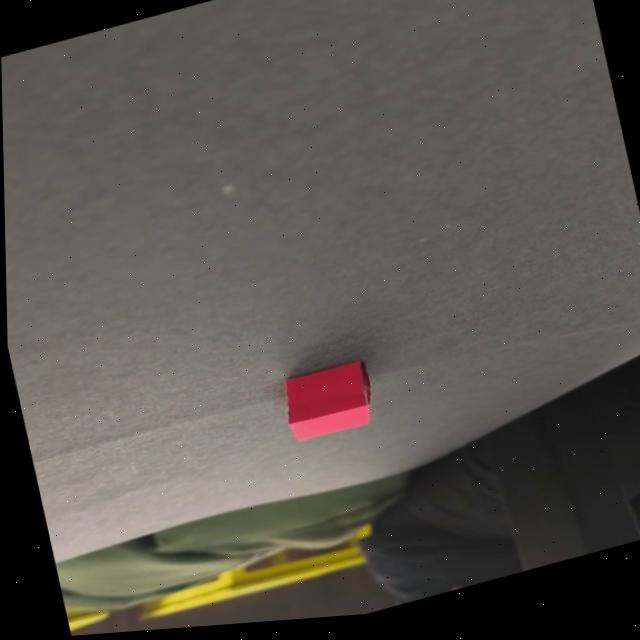red block: (279, 356, 379, 446)
